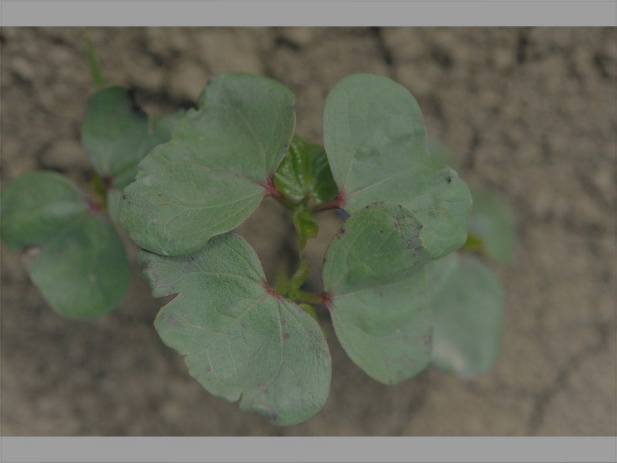cotton: (1, 74, 502, 424)
